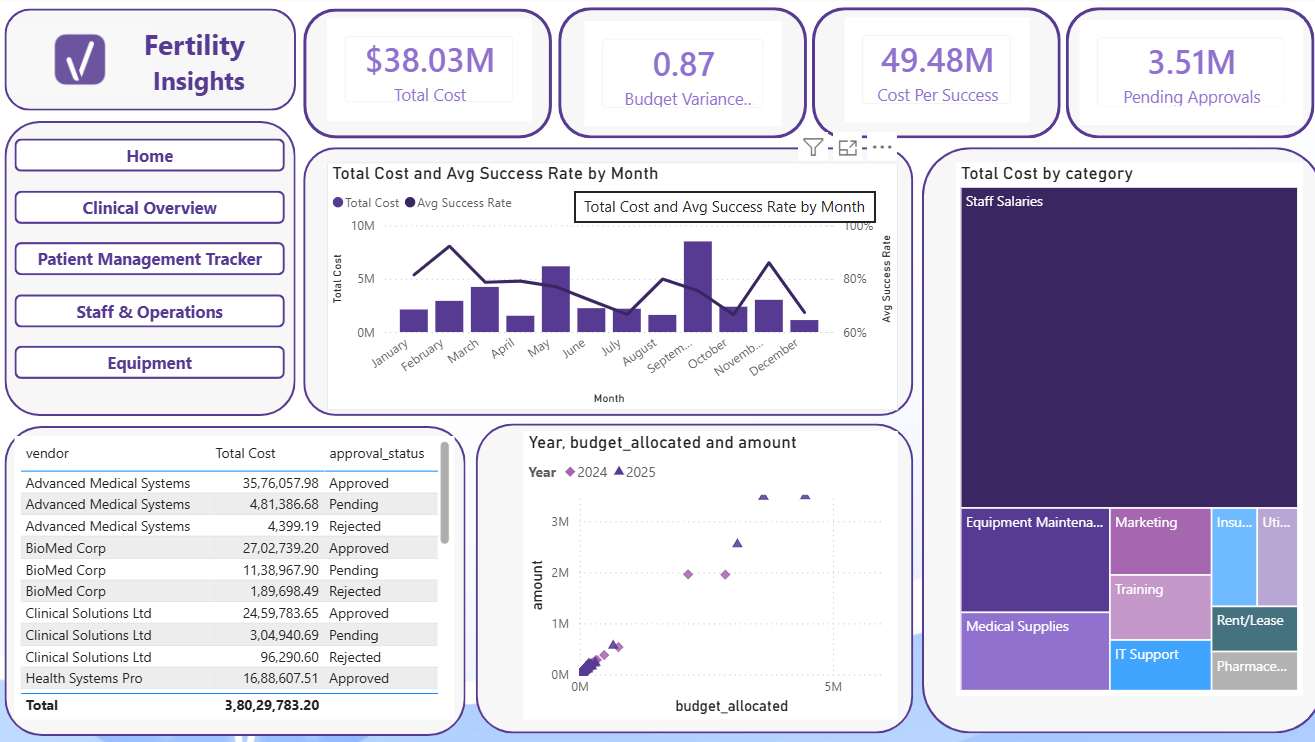

This screenshot's page, from the dashboard's own definition file:
{"tool":"powerbi","page":{"name":"Finance & Billing","canvas":[1280,720],"ordinal":4},"visuals":[{"type":"shape","box":[6.9,12.3,281.3,98.8],"z":0},{"type":"image","box":[12.3,12.3,135.8,98.8],"z":1000},{"type":"textbox","box":[120.8,23.3,148.2,74.1],"z":2000},{"type":"shape","box":[7.2,120.6,281.1,284.7],"z":3000},{"type":"pageNavigator","box":[17.3,138,261.2,234.1],"z":4000},{"type":"shape","box":[295.6,146,588.7,259.4],"z":5000},{"type":"shape","box":[7.2,415,445.2,299.2],"z":6000},{"type":"shape","box":[295.6,12.1,240.1,125.5],"z":7000},{"type":"shape","box":[541.7,10.9,240.1,126.7],"z":8000},{"type":"shape","box":[786.6,10.9,240.1,126.7],"z":9000},{"type":"shape","box":[1031.5,10.9,240.1,126.7],"z":10000},{"type":"shape","box":[892.8,146,387.3,565.8],"z":11000},{"type":"lineStackedColumnComboChart","fields":{"Category":["Calendar.Date.Variation.Date Hierarchy.Month"],"Y":["operational_cost.Total Cost"],"Y2":["performance_kpis.Avg Success Rate"]},"box":[318.5,160.5,551.3,238.9],"z":12000},{"type":"treemap","fields":{"Group":["operational_cost.category"],"Values":["operational_cost.Total Cost"]},"box":[925.3,160.5,335.4,515.2],"z":13000},{"type":"tableEx","fields":{"Values":["operational_cost.vendor","operational_cost.Total Cost","operational_cost.approval_status"]},"box":[16.9,424.7,424.7,273.9],"z":14000},{"type":"shape","box":[462.1,412.6,422.3,299.2],"z":15000},{"type":"scatterChart","fields":{"X":["operational_cost.budget_allocated"],"Y":["operational_cost.amount"],"Series":["Calendar.Date.Variation.Date Hierarchy.Year"]},"box":[507.9,419.8,361.9,278.7],"z":16000},{"type":"cardVisual","fields":{"Data":["operational_cost.Total Cost"]},"box":[318.5,21.7,197.9,98.9],"z":17000},{"type":"cardVisual","fields":{"Data":["operational_cost.Budget Variance %"]},"box":[567,24.1,190.6,101.3],"z":18000},{"type":"cardVisual","fields":{"Data":["operational_cost.Cost Per Success"]},"box":[818,20.5,178.6,101.3],"z":19000},{"type":"cardVisual","fields":{"Data":["operational_cost.Pending Approvals"]},"box":[1044.8,22.9,216,101.3],"z":20000}]}

Visuals, with their boxes in screenshot pixels (x1, y1, x2, y2), scaled from the page's 1280x720 canvas onto the 1315x742 screenshot:
shape: bbox=[7, 13, 296, 114]
image: bbox=[13, 13, 152, 114]
textbox: bbox=[124, 24, 276, 100]
shape: bbox=[7, 124, 296, 418]
pageNavigator: bbox=[18, 142, 286, 383]
shape: bbox=[304, 150, 908, 418]
shape: bbox=[7, 428, 465, 736]
shape: bbox=[304, 12, 550, 142]
shape: bbox=[557, 11, 803, 142]
shape: bbox=[808, 11, 1055, 142]
shape: bbox=[1060, 11, 1306, 142]
shape: bbox=[917, 150, 1314, 734]
lineStackedColumnComboChart - Calendar.Date.Variation.Date Hierarchy.Month x operational_cost.Total Cost: bbox=[327, 165, 894, 412]
treemap - operational_cost.category x operational_cost.Total Cost: bbox=[951, 165, 1295, 696]
tableEx - operational_cost.vendor x operational_cost.Total Cost: bbox=[17, 438, 454, 720]
shape: bbox=[475, 425, 909, 734]
scatterChart - operational_cost.budget_allocated x operational_cost.amount: bbox=[522, 433, 894, 720]
cardVisual - operational_cost.Total Cost: bbox=[327, 22, 531, 124]
cardVisual - operational_cost.Budget Variance %: bbox=[583, 25, 778, 129]
cardVisual - operational_cost.Cost Per Success: bbox=[840, 21, 1024, 126]
cardVisual - operational_cost.Pending Approvals: bbox=[1073, 24, 1295, 128]
